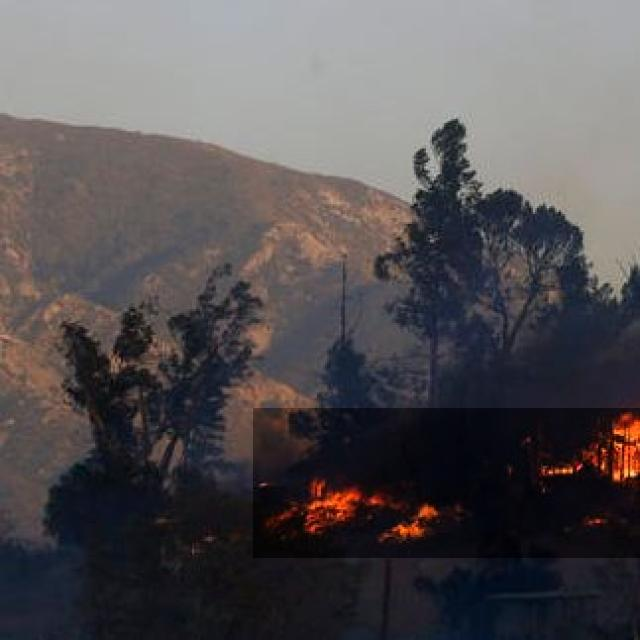Fire: (253, 408, 640, 558)
